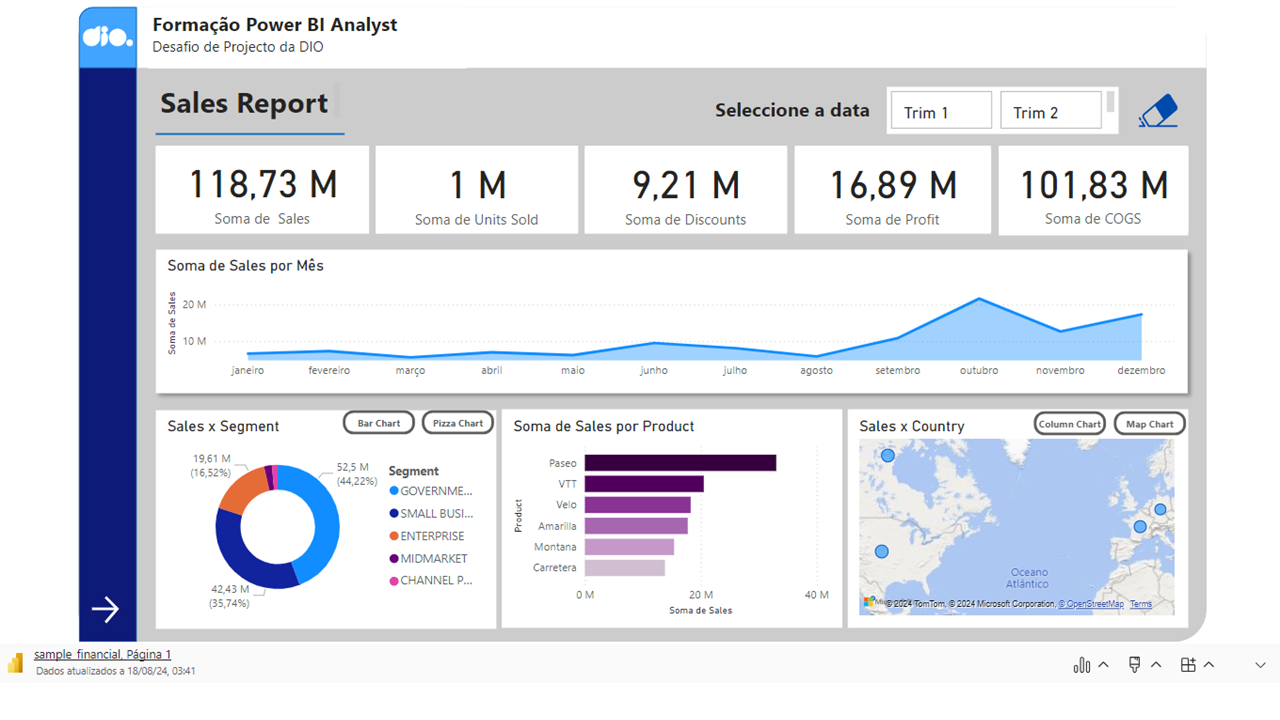

Layout of this report page (visuals, bound fields, positions):
{"tool":"powerbi","page":{"name":"Página 1","canvas":[1280,720],"ordinal":0},"visuals":[{"type":"shape","box":[12.5,7.8,1260.7,710.5],"z":0},{"type":"advancedSlicerVisual","fields":{"Values":["financials.Date.Variation.Hierarquia de datas.Trimestre"]},"box":[915.9,96.6,259.2,52.6],"z":0,"group":"g2"},{"type":"shape","box":[99,163.3,238.4,98.4],"z":0,"group":"g1"},{"type":"clusteredBarChart","title":"Sales x Segment","fields":{"Y":["Sum(financials. Sales)"],"Category":["financials.Segment"]},"box":[107.6,467.1,363.2,226.2],"z":0,"group":"g4"},{"type":"shape","box":[13.5,7.3,64.8,710.5],"z":1000},{"type":"textbox","box":[719,102.7,196.9,41.6],"z":1000,"group":"g2"},{"type":"shape","box":[344.8,163.3,226.2,98.4],"z":1000,"group":"g1"},{"type":"clusteredColumnChart","title":"Sales x Country","fields":{"Category":["financials.Country"],"Y":["Sum(financials. Sales)"]},"box":[879.9,467.5,361.4,225.7],"z":1000,"group":"g3"},{"type":"actionButton","title":"Bar Chart","box":[396.8,459.2,80.6,26.9],"z":1125,"group":"g4"},{"type":"actionButton","title":"Pizza Chart","box":[308.2,459.2,80.6,26.9],"z":1250,"group":"g4"},{"type":"actionButton","title":"Column Chart","box":[1080.1,460.6,80.6,26.9],"z":1500,"group":"g3"},{"type":"shape","box":[13.7,7.8,64.8,68.5],"z":2000},{"type":"actionButton","box":[1184.9,96.6,67.3,52.6],"z":2000,"group":"g2"},{"type":"shape","box":[578.3,163.3,226.2,98.4],"z":2000,"group":"g1"},{"type":"actionButton","title":"Map Chart","box":[1168.8,460.6,80.6,26.9],"z":2000,"group":"g3"},{"type":"shape","box":[78.3,7.3,1194.7,68.5],"z":3000},{"type":"image","title":"clean","box":[1184.9,96.6,67.3,52.6],"z":3000,"group":"g2"},{"type":"shape","box":[813.1,163.3,218.9,98.4],"z":3000,"group":"g1"},{"type":"textbox","box":[90.5,7.3,357.1,68.5],"z":4000},{"type":"shape","box":[1040.5,163,211.6,100.3],"z":4000,"group":"g1"},{"type":"image","title":"dio","box":[13.5,6.1,64.8,69.7],"z":5000},{"type":"card","fields":{"Values":["Sum(financials.COGS)"]},"box":[1040.6,165.1,211.6,94.2],"z":5000,"group":"g1"},{"type":"group","id":"g1","title":"Cartões","box":[99,163,1153.1,100.3],"z":6000},{"type":"card","fields":{"Values":["Sum(financials.Units Sold)"]},"box":[344.8,166.3,226.2,92.9],"z":6000,"group":"g1"},{"type":"shape","box":[99.4,138.4,210.9,22.8],"z":7000},{"type":"card","fields":{"Values":["Sum(financials. Sales)"]},"box":[99,163.9,238.5,95.4],"z":7000,"group":"g1"},{"type":"textbox","box":[99.4,87.3,210.9,51],"z":8000},{"type":"card","fields":{"Values":["Sum(financials.Discounts)"]},"box":[578.4,166.3,226.2,92.9],"z":8000,"group":"g1"},{"type":"card","fields":{"Values":["Sum(financials.Profit)"]},"box":[813.1,166.3,218.9,92.9],"z":9000,"group":"g1"},{"type":"shape","box":[90.5,270.2,1170.3,178.5],"z":9000},{"type":"shape","box":[99,458.6,380.3,244.6],"z":10000},{"type":"shape","box":[485.5,458.1,380.3,244.6],"z":11000},{"type":"shape","box":[871.9,458.1,380.3,244.6],"z":12000},{"type":"areaChart","fields":{"Category":["financials.Date.Variation.Hierarquia de datas.Mês"],"Y":["Sum(financials. Sales)"]},"box":[107.6,287.4,1134.8,145.5],"z":13000},{"type":"clusteredBarChart","fields":{"Y":["Sum(financials. Sales)"],"Category":["financials.Product"]},"box":[494,467.1,363.2,226.2],"z":14000},{"type":"group","id":"g2","title":"Filtro por data","box":[719,96.6,533.2,52.6],"z":15000},{"type":"group","id":"g3","title":"Sales x País","box":[879.9,460.6,369.5,232.8],"z":16000},{"type":"group","id":"g4","title":"Sales x Segment","box":[107.6,459.2,369.8,234.2],"z":17000},{"type":"actionButton","box":[22.8,662.3,45.7,40.3],"z":18000}]}

Visuals, with their boxes on the page's 1280x720 design canvas (x1, y1, x2, y2). These are canvas units, not pixel positions in the 1280x720 screenshot, which may show the page scaled, cropped or inside an application window:
shape: bbox(12, 8, 1273, 718)
advancedSlicerVisual - financials.Date.Variation.Hierarquia de datas.Trimestre: bbox(916, 97, 1175, 149)
shape: bbox(99, 163, 337, 262)
"Sales x Segment" clusteredBarChart: bbox(108, 467, 471, 693)
shape: bbox(14, 7, 78, 718)
textbox: bbox(719, 103, 916, 144)
shape: bbox(345, 163, 571, 262)
"Sales x Country" clusteredColumnChart: bbox(880, 468, 1241, 693)
"Bar Chart" actionButton: bbox(397, 459, 477, 486)
"Pizza Chart" actionButton: bbox(308, 459, 389, 486)
"Column Chart" actionButton: bbox(1080, 461, 1161, 488)
shape: bbox(14, 8, 78, 76)
actionButton: bbox(1185, 97, 1252, 149)
shape: bbox(578, 163, 804, 262)
"Map Chart" actionButton: bbox(1169, 461, 1249, 488)
shape: bbox(78, 7, 1273, 76)
"clean" image: bbox(1185, 97, 1252, 149)
shape: bbox(813, 163, 1032, 262)
textbox: bbox(90, 7, 448, 76)
shape: bbox(1040, 163, 1252, 263)
"dio" image: bbox(14, 6, 78, 76)
card - Sum(financials.COGS): bbox(1041, 165, 1252, 259)
"Cartões" group: bbox(99, 163, 1252, 263)
card - Sum(financials.Units Sold): bbox(345, 166, 571, 259)
shape: bbox(99, 138, 310, 161)
card - Sum(financials. Sales): bbox(99, 164, 338, 259)
textbox: bbox(99, 87, 310, 138)
card - Sum(financials.Discounts): bbox(578, 166, 805, 259)
card - Sum(financials.Profit): bbox(813, 166, 1032, 259)
shape: bbox(90, 270, 1261, 449)
shape: bbox(99, 459, 479, 703)
shape: bbox(486, 458, 866, 703)
shape: bbox(872, 458, 1252, 703)
areaChart - financials.Date.Variation.Hierarquia de datas.Mês x Sum(financials. Sales): bbox(108, 287, 1242, 433)
clusteredBarChart - Sum(financials. Sales) x financials.Product: bbox(494, 467, 857, 693)
"Filtro por data" group: bbox(719, 97, 1252, 149)
"Sales x País" group: bbox(880, 461, 1249, 693)
"Sales x Segment" group: bbox(108, 459, 477, 693)
actionButton: bbox(23, 662, 68, 703)
